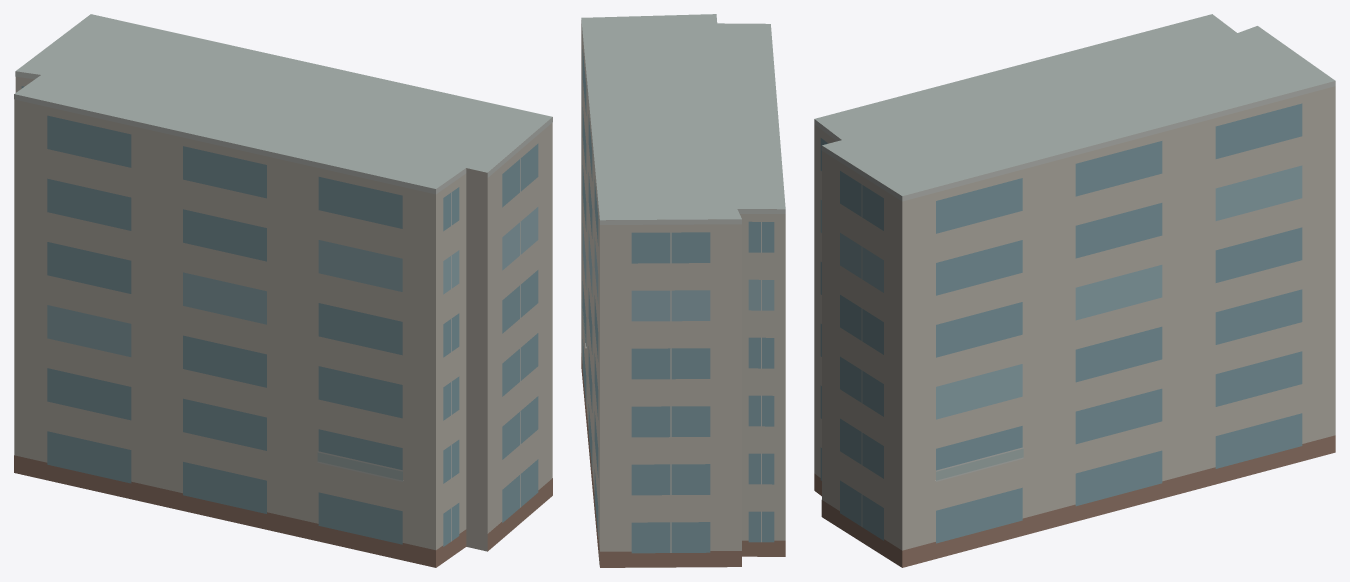
The model's file is survey-upis-32865201.glb.
3 views of the same model, side by side, from view 1: azimuth 30°, elevation 25°; view 2: azimuth 150°, elevation 25°; view 3: azimuth 270°, elevation 25° (orthographic). The views are drawn at different scales.
Visible parts, largest first — view 1: survey-upis-32865201.tmp; view 2: survey-upis-32865201.tmp; view 3: survey-upis-32865201.tmp.
Part boxes in pixels (left/top/right/bottom): survey-upis-32865201.tmp: left=14, top=14, right=552, bottom=567; survey-upis-32865201.tmp: left=581, top=14, right=785, bottom=567; survey-upis-32865201.tmp: left=814, top=14, right=1335, bottom=567.
Size of the model in its own units: 18.1 by 17.2 by 21.88.
